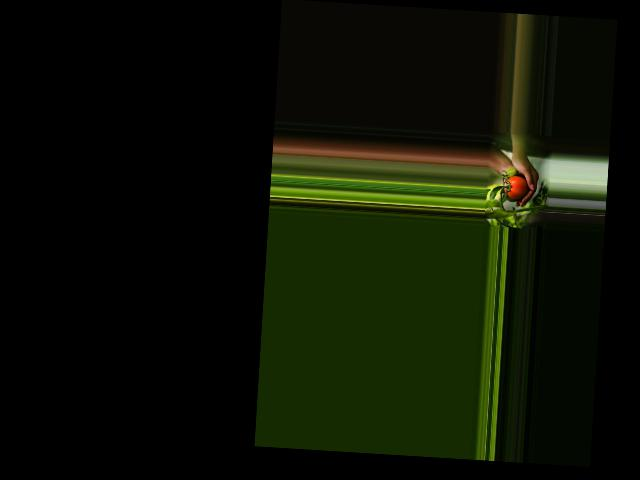tomato: (504, 175, 528, 199)
